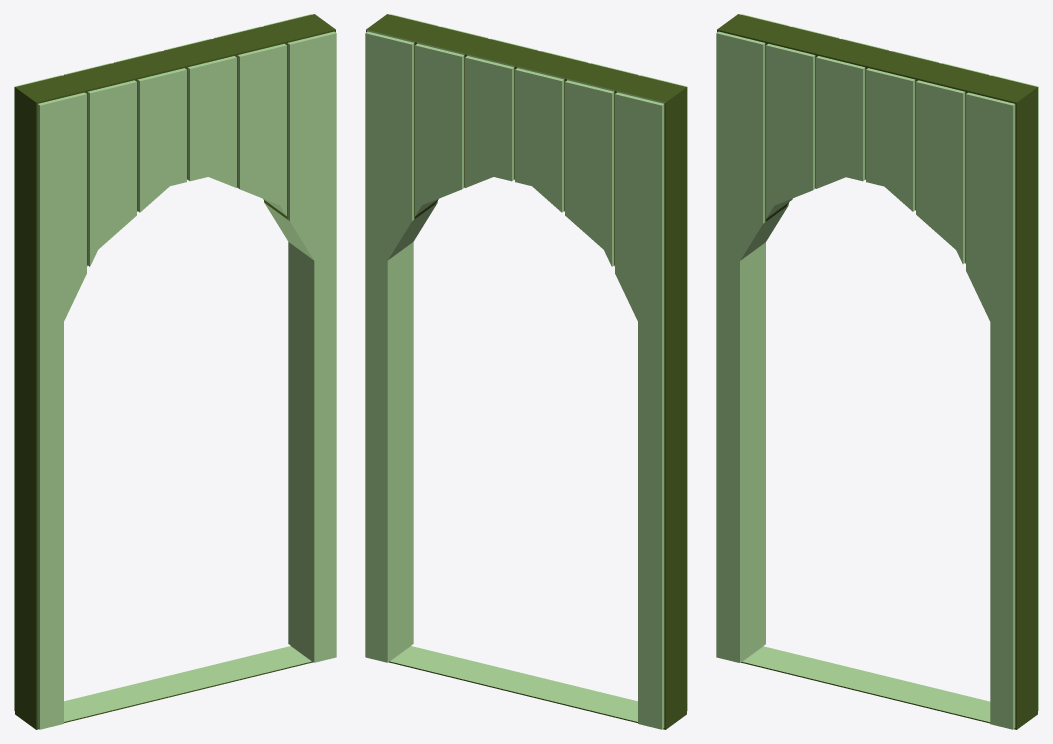
Rendered from GreenBoardsDoorframe.glb.
3 renders of one model, left to right at view 1: azimuth 30°, elevation 25°; view 2: azimuth 150°, elevation 25°; view 3: azimuth 330°, elevation 25°, orthographic.
Visible parts, largest first — view 1: wall_greenBoards_door; view 2: wall_greenBoards_door; view 3: wall_greenBoards_door.
Part boxes in pixels (x1,y1,x2,y2): wall_greenBoards_door: [14, 14, 336, 729]; wall_greenBoards_door: [365, 14, 687, 729]; wall_greenBoards_door: [716, 14, 1038, 729].
Size of what is drawn, in the model's own units: 2 by 4 by 0.3.
Materials: 1 (1 with a texture image).
